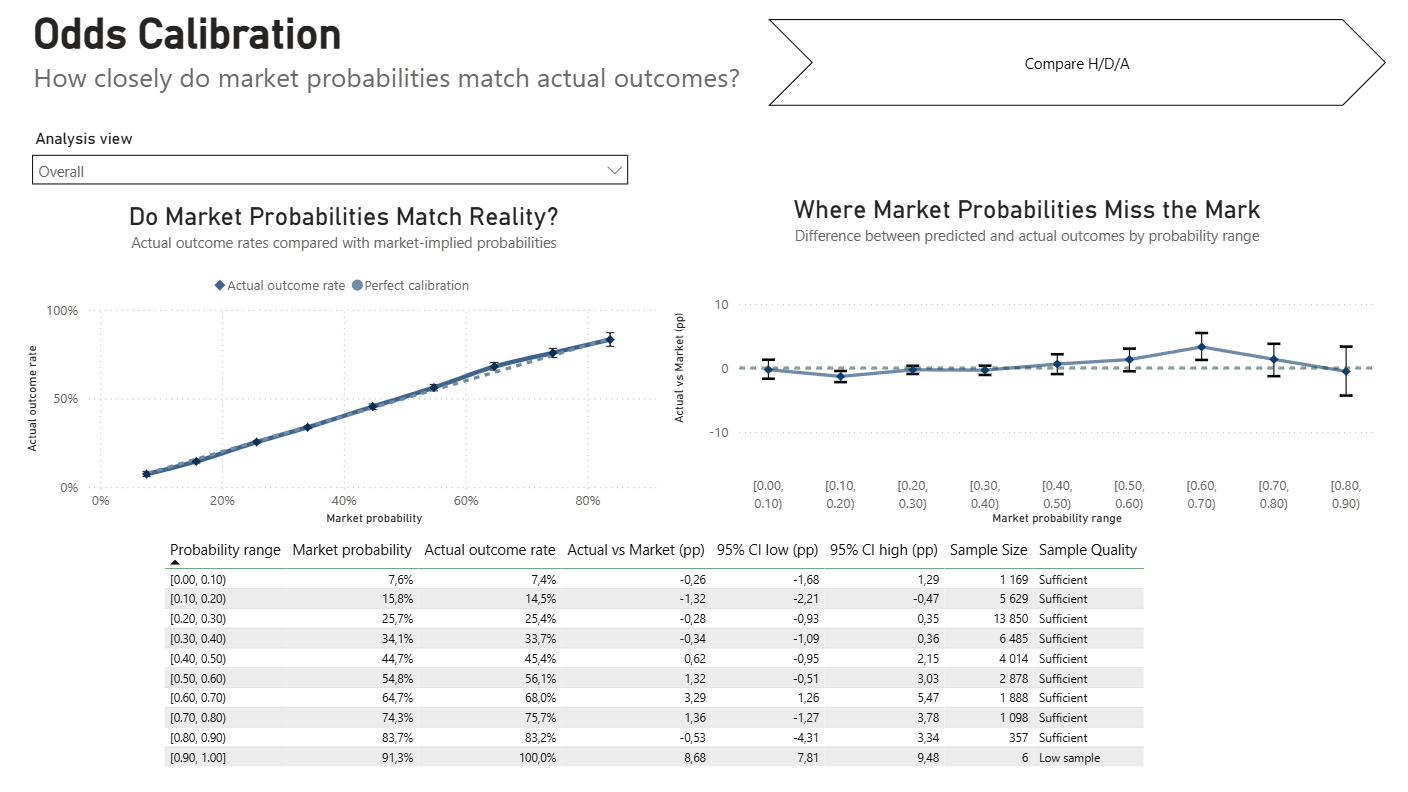

The page's visual inventory and layout, read from the dashboard file:
{"tool":"powerbi","page":{"name":"Odds Calibration","canvas":[1280,720],"ordinal":1},"visuals":[{"type":"lineChart","title":"How Well Does the Market Price Home, Draw and Away?","fields":{"Category":["Calibration.probability_bin"],"Y":["_Measures.Calibration Gap (pp)"],"Rows":["Calibration.segment_label"]},"box":[25.5,108.2,1235.5,571.8],"z":0},{"type":"bookmarkNavigator","box":[698.2,17.3,562.7,79.1],"z":2000},{"type":"textbox","title":"Odds Calibration","box":[25.5,7.3,661.8,89.1],"z":3000}]}

Visuals, with their boxes in screenshot pixels (x1, y1, x2, y2), scaled from the page's 1280x720 canvas onto the 1408x792 screenshot:
"How Well Does the Market Price Home, Draw and Away?" lineChart: 28,119,1387,748
bookmarkNavigator: 768,19,1387,106
"Odds Calibration" textbox: 28,8,756,106
